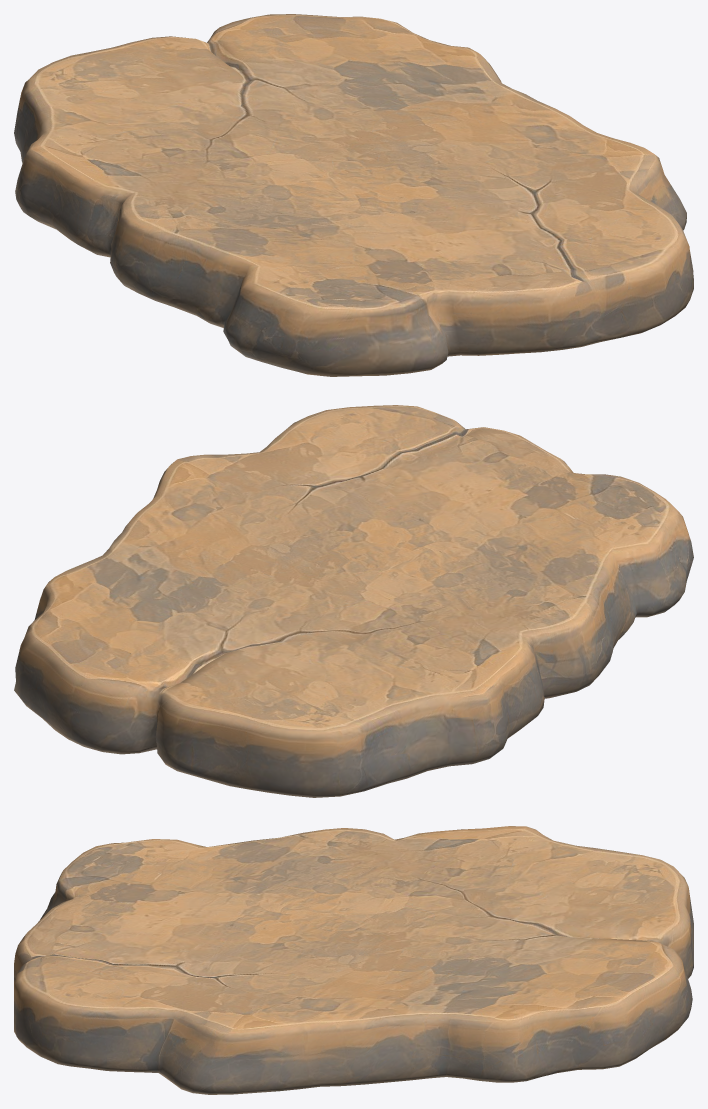
File: Laje_Caminho.glb
3 renders of one model, top to bottom at view 1: azimuth 30°, elevation 25°; view 2: azimuth 150°, elevation 25°; view 3: azimuth 270°, elevation 25°, orthographic. The views are drawn at different scales.
Size of the model in its own units: 0.7676 by 0.1018 by 1.
Materials: 1 (1 with a texture image).
